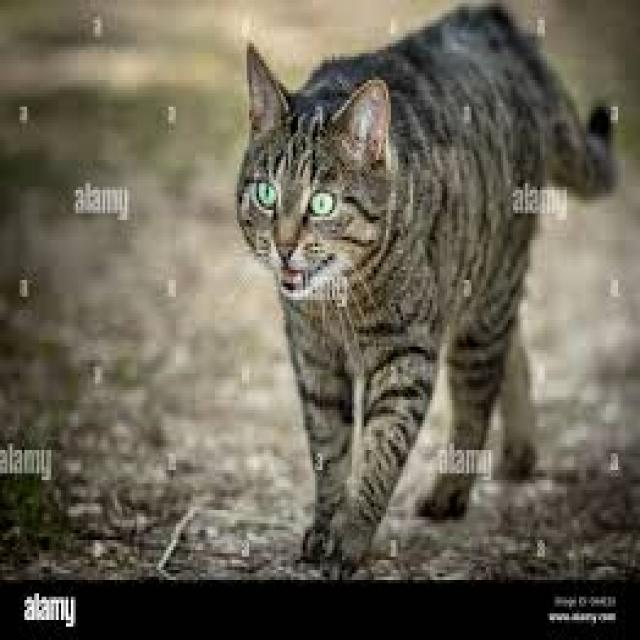Cat: (229, 0, 619, 577)
